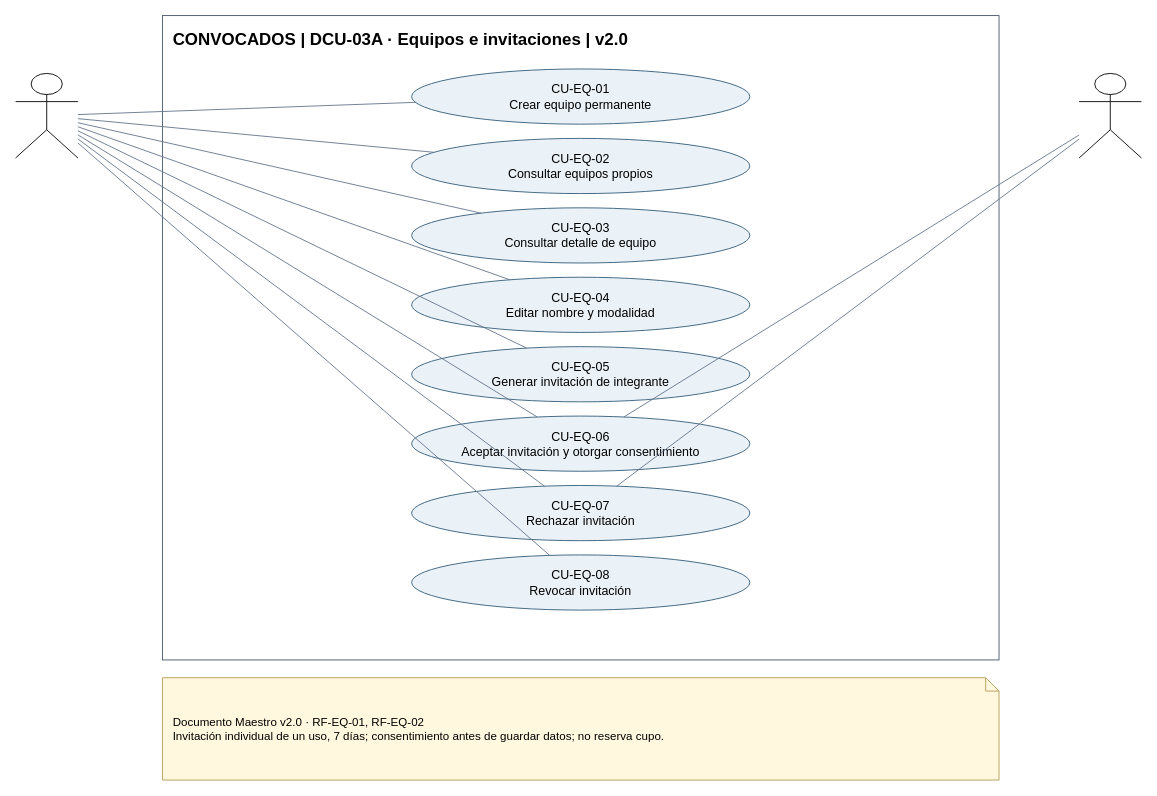
The diagram is 1157 pixels wide and 796 high, and some of its shapes have lost their labels. Here are the shapes that lost their labels. From the top down, the box of each, then its label:
(15, 73, 78, 158): Usuario registrado
(1078, 73, 1141, 158): Jugador invitado
